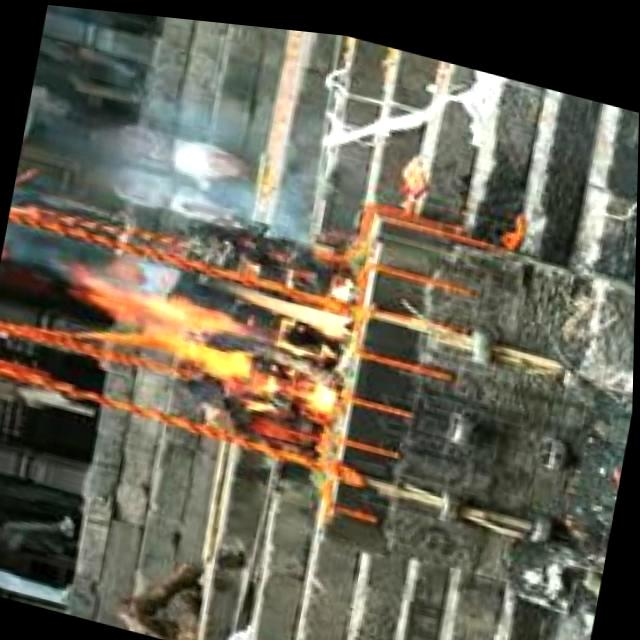fire: (60, 220, 364, 406)
